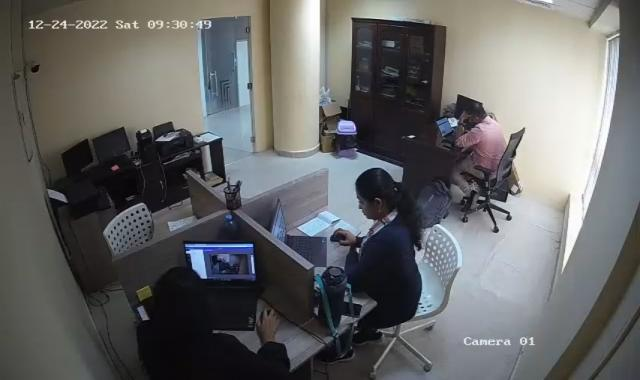no_hairnet: (151, 266, 206, 325), (354, 167, 403, 222), (468, 99, 488, 126)
